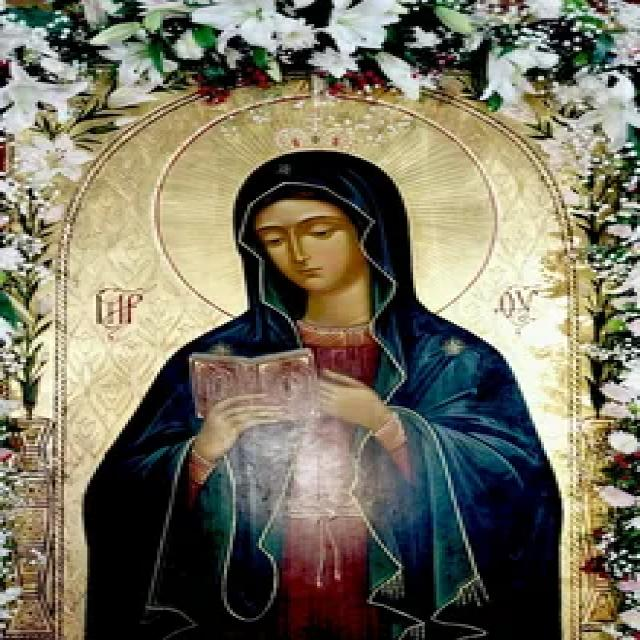mother of god: (63, 142, 586, 640)
